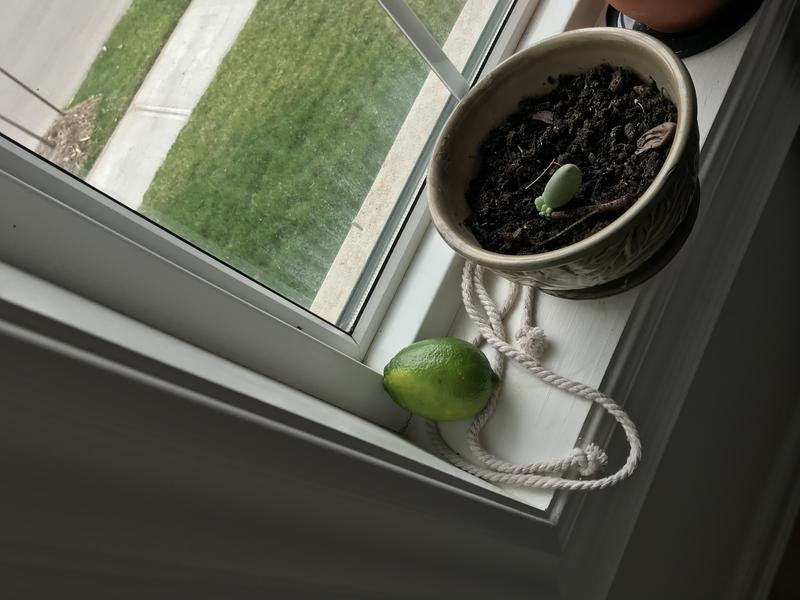lime: (372, 331, 512, 428)
